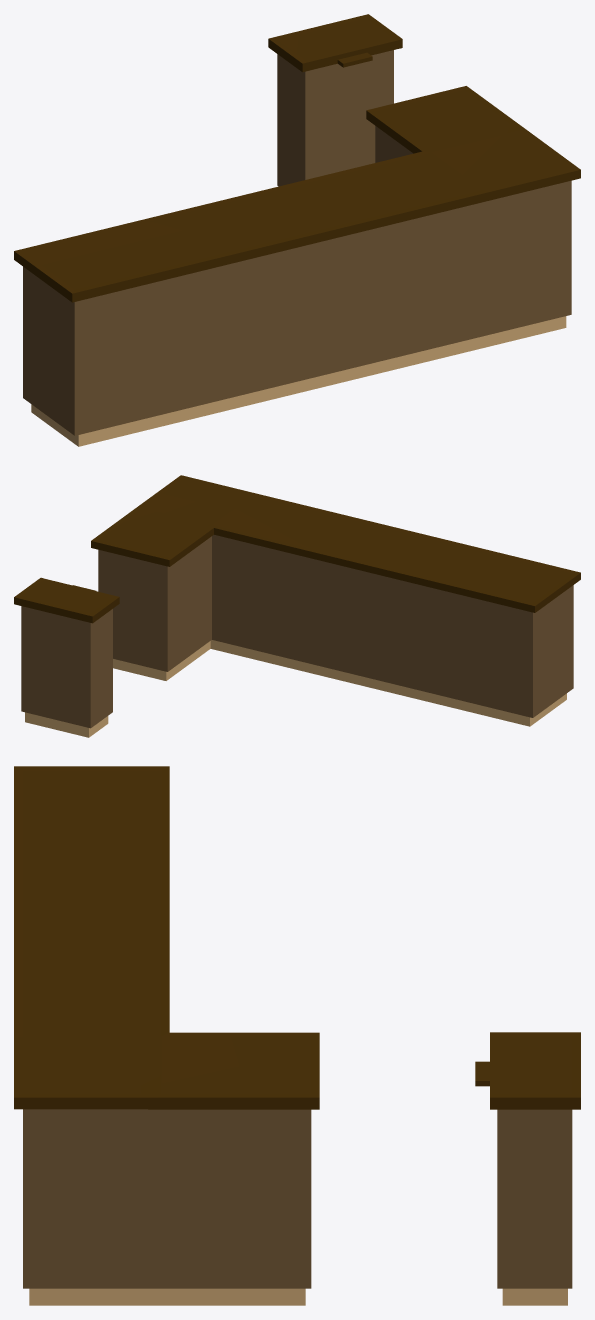
File: R_Reception.fbx
3 views of the same model, one above another, from view 1: azimuth 30°, elevation 25°; view 2: azimuth 150°, elevation 25°; view 3: azimuth 270°, elevation 25° (orthographic). The views are drawn at different scales.
Visible parts, largest first — view 1: R_Reception; view 2: R_Reception; view 3: R_Reception.
Boxes of the visible parts, x1,y1,x2,y2 form: R_Reception: [14, 14, 580, 446]; R_Reception: [14, 475, 580, 737]; R_Reception: [14, 766, 580, 1305].
Size of the model in its own units: 2791 by 2018 by 840.
